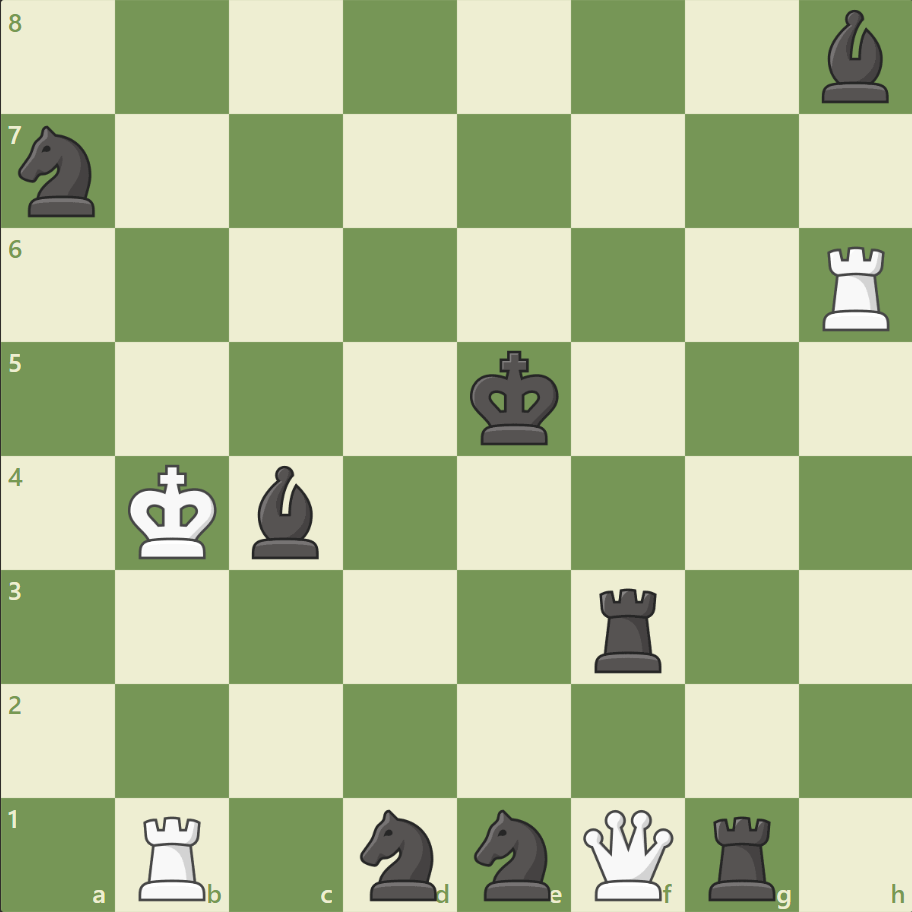K: (124, 458, 224, 566)
Q: (578, 804, 677, 903)
R: (814, 239, 897, 336), (133, 806, 215, 904)
b: (812, 6, 896, 109), (244, 460, 328, 563)
k: (465, 344, 565, 452)
n: (351, 802, 449, 904), (11, 121, 108, 223), (465, 802, 562, 904)
r: (700, 806, 783, 904), (587, 579, 670, 676)
